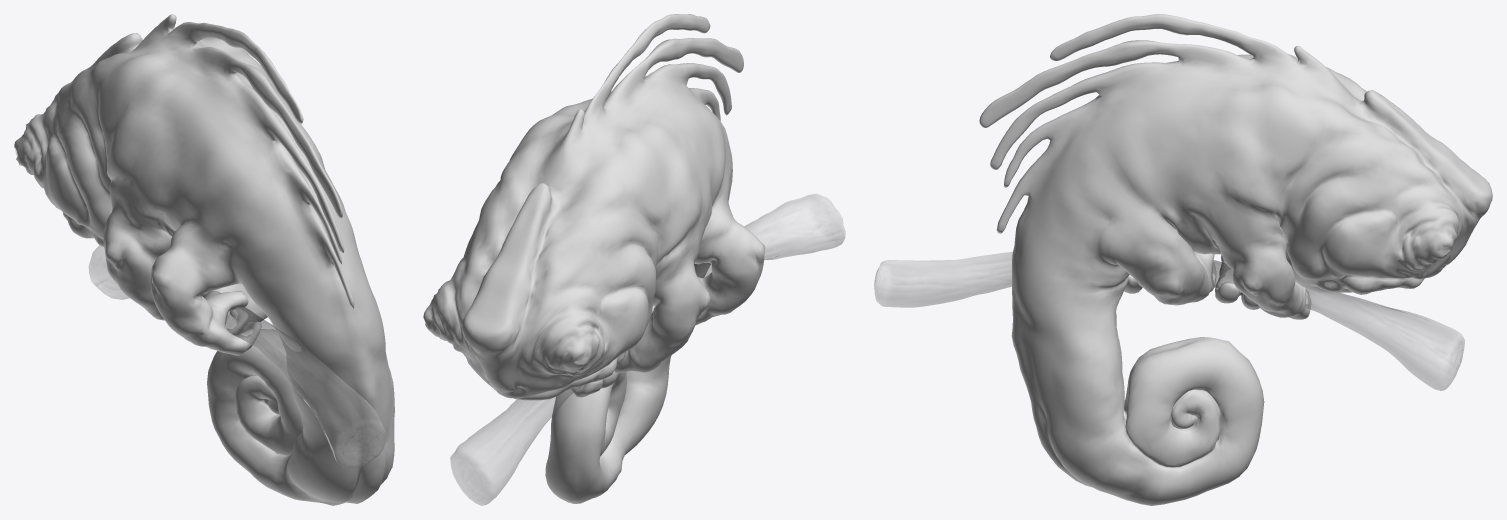
Rendered from bunglon.glb.
3 views of the same model, side by side, from view 1: azimuth 30°, elevation 25°; view 2: azimuth 150°, elevation 25°; view 3: azimuth 270°, elevation 25° (orthographic). The views are drawn at different scales.
Parts seen in each view (by area): view 1: chameleon; view 2: chameleon; view 3: chameleon.
Boxes of the visible parts, <box> form: chameleon: <box>14,14,394,505</box>; chameleon: <box>423,14,845,505</box>; chameleon: <box>874,14,1492,505</box>.
Size of the model in its own units: 14.66 by 31.44 by 38.39.
Materials: 3 (1 with a texture image).
